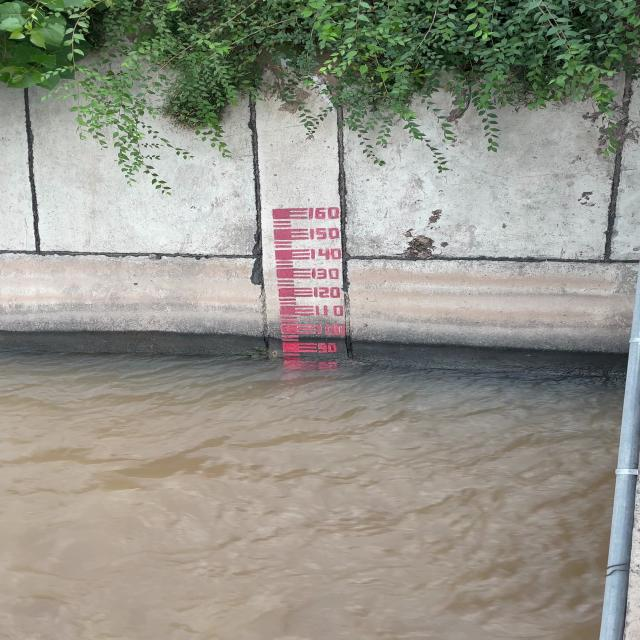ruler: (268, 202, 358, 359)
value: (304, 204, 346, 222), (305, 226, 346, 242), (312, 320, 348, 338), (309, 285, 346, 300), (310, 304, 349, 318), (308, 246, 344, 261), (308, 266, 344, 281), (313, 340, 341, 356)
